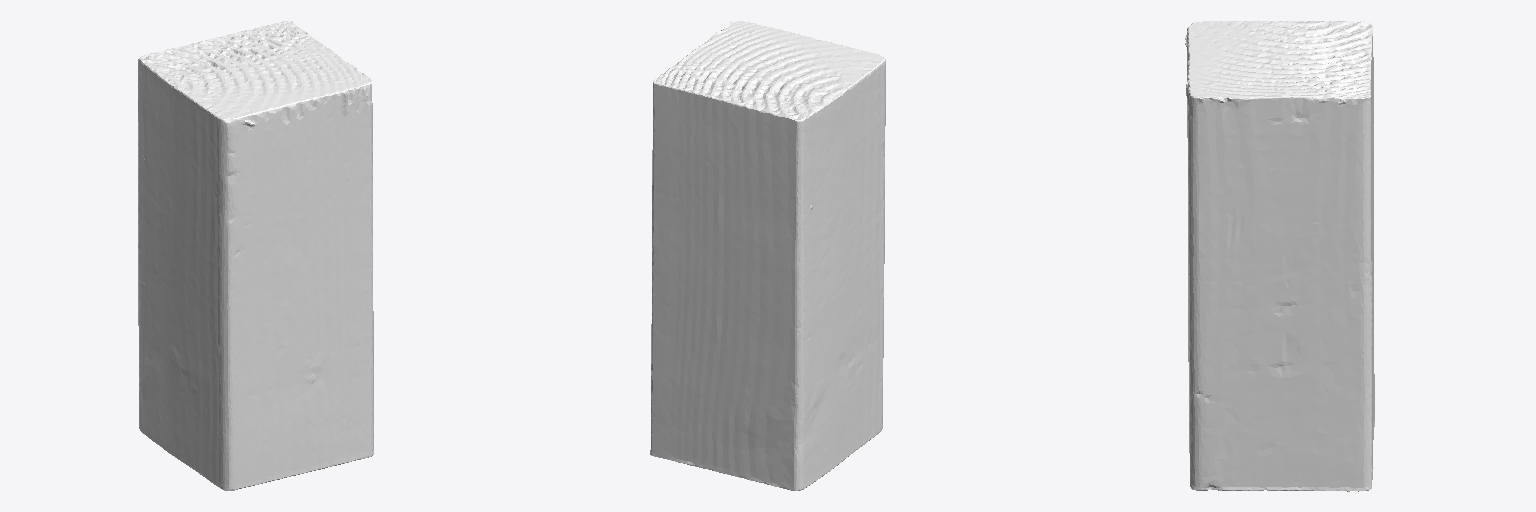
robot.urdf — e_lego_duplo:
<robot name="e_lego_duplo">
	<link name="base_link">
		<visual>
			<origin xyz="0.023206841063979647 0.05012559062881336 -0.023705285345941213" rpy="0.0 0.0 0.0" />
			<geometry>
				<mesh filename="073-e_lego_duplo/google_16k/textured.obj" scale="1 1 1" />
			</geometry>
			<material name="texture">
				<color rgba="1.0 1.0 1.0 1.0" />
			</material>
		</visual>
		<collision>
			<origin xyz="0.023206841063979647 0.05012559062881336 -0.023705285345941213" rpy="0.0 0.0 0.0" />
			<geometry>
				<mesh filename="073-e_lego_duplo/google_16k/textured_vhacd.obj" scale="1 1 1" />
			</geometry>
		</collision>
		<inertial>
			<mass value="0.0372" />
			<inertia ixx="1e-3" ixy="0.0" ixz="0.0" iyy="1e-3" iyz="0.0" izz="1e-3" />
		</inertial>
	</link>
</robot>

--- Facts derived from the render (not from the file) ---
Views: 3 orthographic renders of the robot side by side, from view 1: azimuth 30°, elevation 25°; view 2: azimuth 150°, elevation 25°; view 3: azimuth 270°, elevation 25°.
Model e_lego_duplo with 1 links and 0 joints (none), rooted at base_link, posed all joints at 0.
Links seen in each view (by area): view 1: base_link; view 2: base_link; view 3: base_link.
Boxes of the visible links, box(x1,y1,x2,y2) form: base_link: box(138, 21, 373, 490); base_link: box(650, 21, 885, 490); base_link: box(1185, 20, 1374, 491).
Bounding box of the posed robot: 0.0906 × 0.0899 × 0.206 m (x, y, z).
1 mesh visuals loaded from 1 distinct referenced files (1 OBJ).